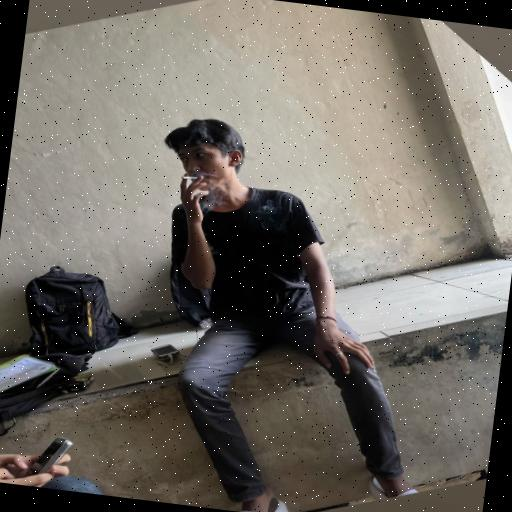dataset-deteksi-merokok: (163, 130, 232, 209)
